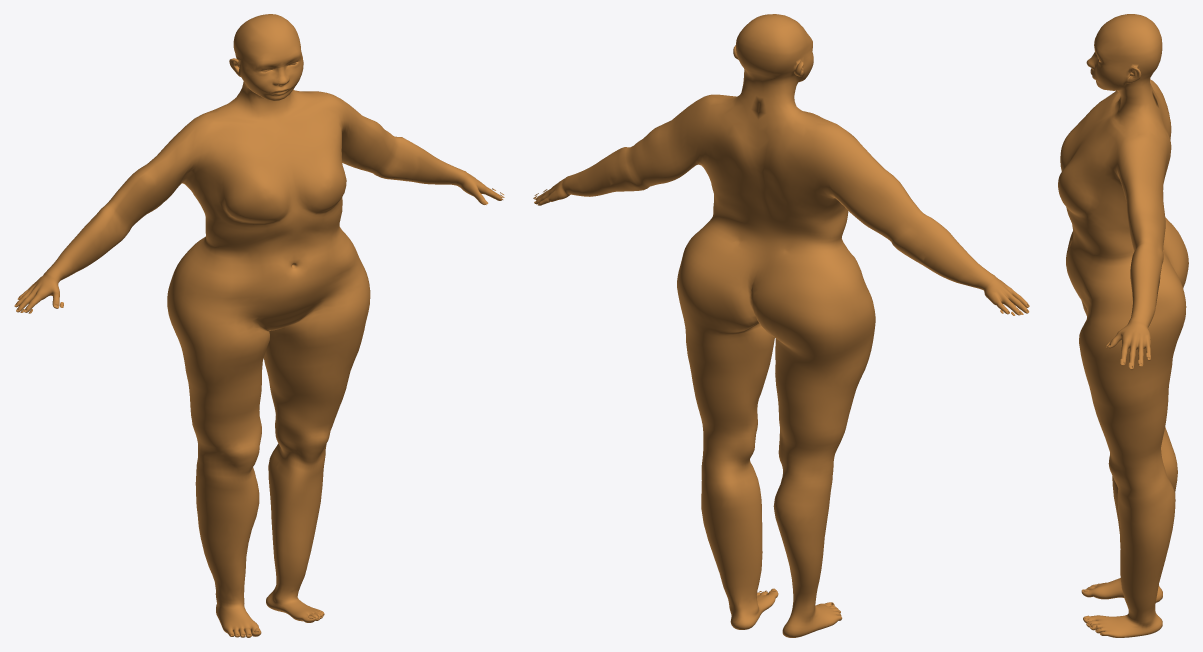
File: female_XXL_4.glb
3 views of the same model, side by side, from view 1: azimuth 30°, elevation 25°; view 2: azimuth 150°, elevation 25°; view 3: azimuth 270°, elevation 25° (orthographic).
Parts seen in each view (by area): view 1: Body; view 2: Body; view 3: Body.
Part boxes in pixels (x1,y1,x2,y2): Body: [14, 14, 503, 637]; Body: [534, 14, 1029, 637]; Body: [1058, 14, 1188, 637].
Size of the model in its own units: 1.59 by 1.88 by 0.3691.
